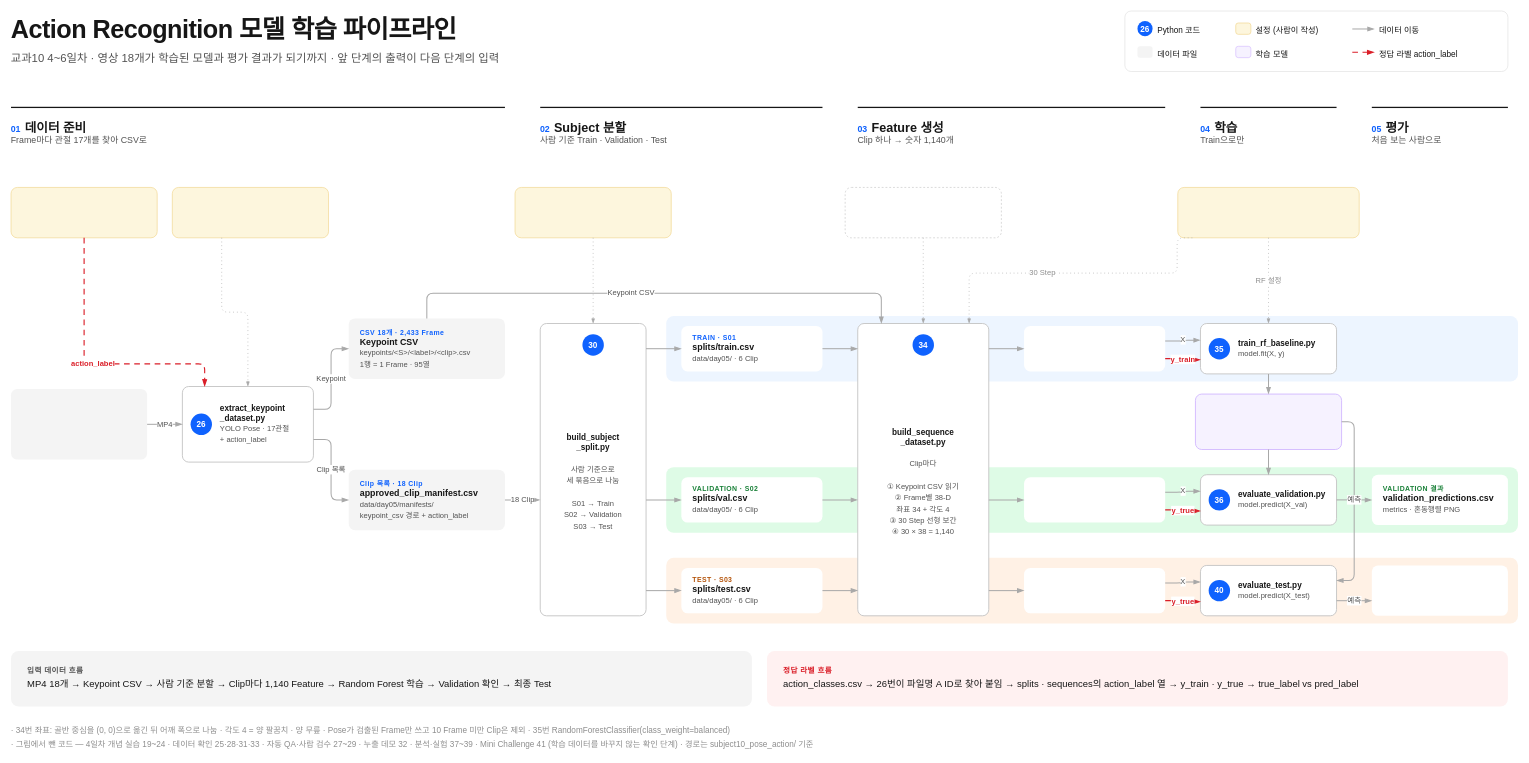
Image size: 1529x763. Some labels were removed from this diagram. The shapes that lost their labels are listed below. From the top down, each one's centre as x and y in pixels, then its label:
At point 83,212: "설정 · 4일차 action_classes.csv A001~A006 → action_label".
At point 250,212: "설정 · 1일차부터 project.json yolo11n-pose.pt · 640 · conf 0.25".
At point 592,212: "설정 day05_subject_split.json S01 / S02 / S03".
At point 923,212: "공통 함수 src/sequence_utils.py 38-D 계산 · 30 Step 보간".
At point 1268,212: "설정 day06_baseline.json 30 Step · 최소 10 Frame · RF 300 · seed 42".
At point 1094,348: "TRAIN · S01 sequences/train.csv data/day06/ · 6 × 1,140".
At point 79,424: "원본 영상 MP4 18개 data/day05/videos/ 3명 × 6동작 · 25fps".
At point 1268,421: "학습 모델 rf_action_baseline.joblib artifacts/day06/ + Feature 순서".
At point 1094,499: "VALIDATION · S02 sequences/val.csv data/day06/ · 6 × 1,140".
At point 1094,590: "TEST · S03 sequences/test.csv data/day06/ · 6 × 1,140".
At point 1440,590: "최종 TEST 결과 test_predictions.csv true_label vs pred_label".
